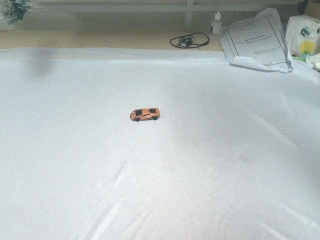toy_car: (130, 102, 160, 122)
